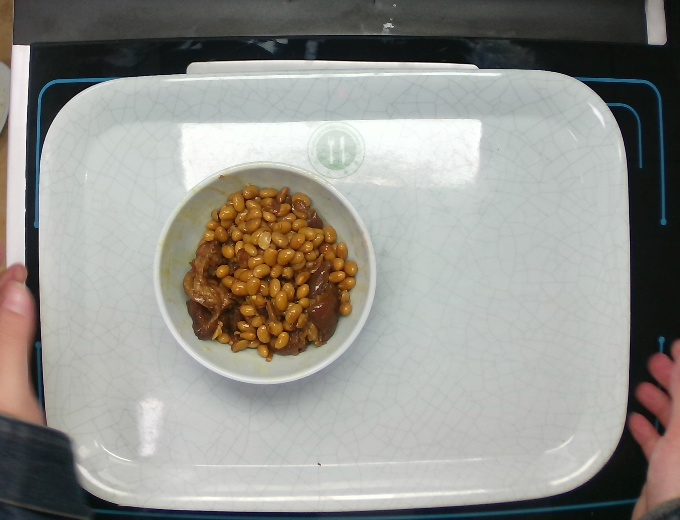JYsf-Fan_Wan: (150, 159, 379, 388)
